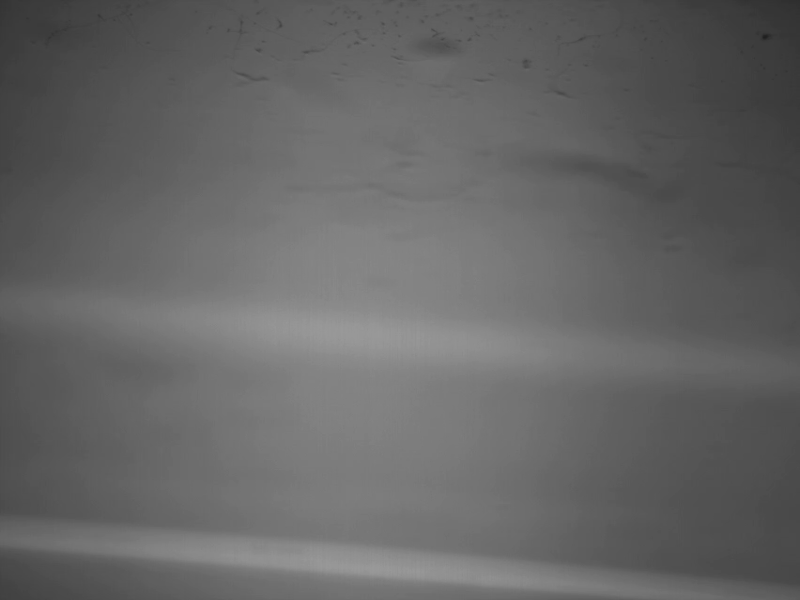bead: (412, 34, 464, 70)
fiber: (284, 176, 485, 216), (40, 1, 139, 49), (227, 17, 270, 85)
